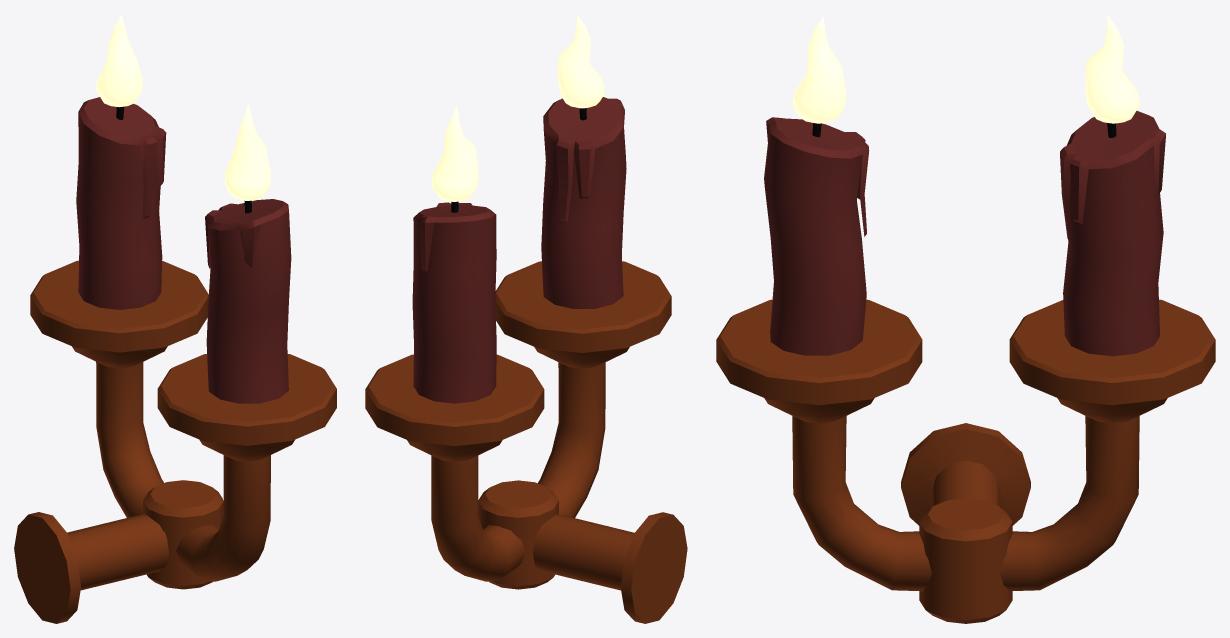
Rendered from Candle.fbx.
3 views of the same model, side by side, from view 1: azimuth 30°, elevation 25°; view 2: azimuth 150°, elevation 25°; view 3: azimuth 270°, elevation 25° (orthographic). The views are drawn at different scales.
Visible parts, largest first — view 1: Candle; view 2: Candle; view 3: Candle.
Boxes of the visible parts, bbox=[...] form: Candle: bbox=[14, 14, 336, 623]; Candle: bbox=[365, 14, 687, 623]; Candle: bbox=[716, 14, 1215, 623].
Size of the model in its own units: 27.11 by 62.41 by 46.59.
